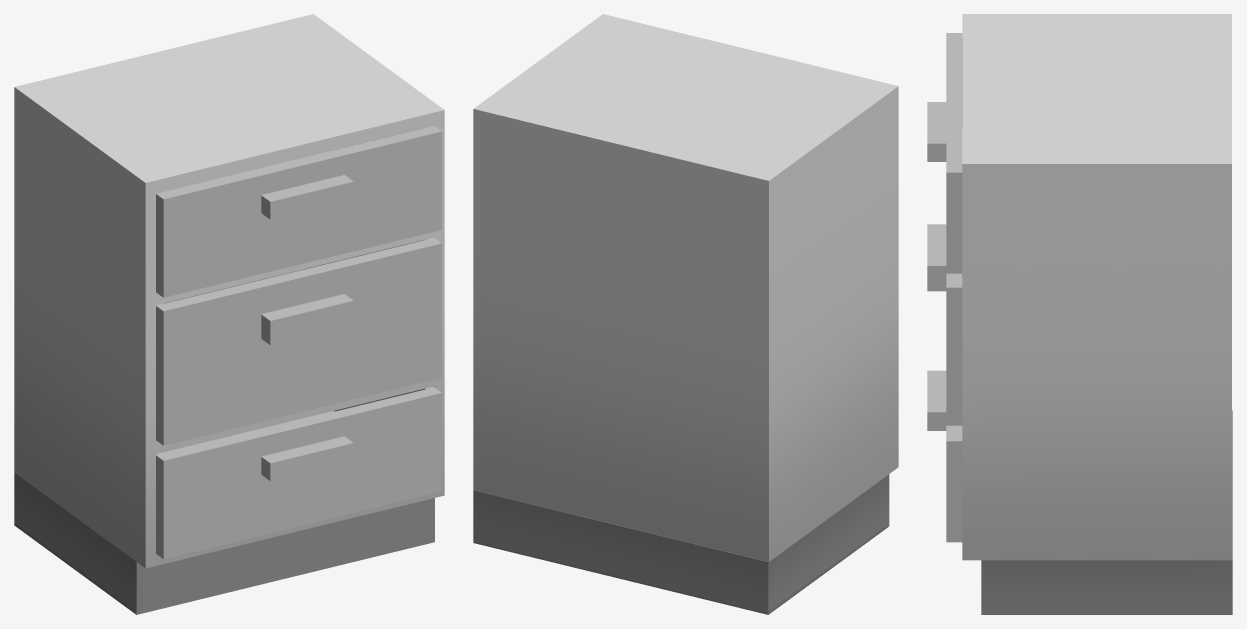
Rendered from Chest6.FBX.
3 renders of one model, left to right at view 1: azimuth 30°, elevation 25°; view 2: azimuth 150°, elevation 25°; view 3: azimuth 270°, elevation 25°, orthographic. The views are drawn at different scales.
Visible parts, largest first — view 1: chestbox6, Object020, Object021, Object007; view 2: chestbox6; view 3: chestbox6, Object007, Object020, Object021.
Boxes of the visible parts, x1,y1,x2,y2 form: chestbox6: [14, 14, 444, 614]; Object020: [156, 237, 441, 445]; Object021: [156, 386, 441, 559]; Object007: [156, 126, 441, 297]; chestbox6: [473, 14, 898, 614]; chestbox6: [962, 14, 1232, 614]; Object007: [927, 33, 962, 273]; Object020: [927, 224, 962, 425]; Object021: [927, 370, 962, 542].
Size of the model in its own units: 19.21 by 26.94 by 16.52.
